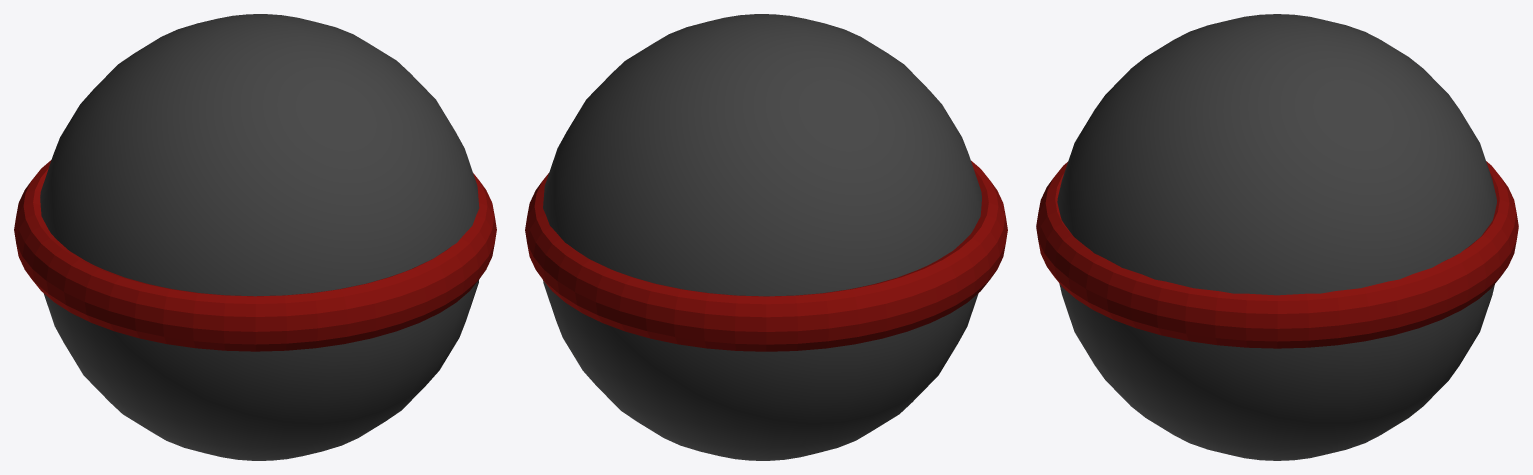
The model's file is EnemyMelee.fbx.
The picture shows the model from 3 angles, left to right: view 1: azimuth 30°, elevation 25°; view 2: azimuth 150°, elevation 25°; view 3: azimuth 270°, elevation 25°; orthographic projection.
Parts seen in each view (by area): view 1: Drone_Body, RingBody; view 2: Drone_Body, RingBody; view 3: Drone_Body, RingBody.
Boxes of the visible parts, bbox=[...] form: Drone_Body: bbox=[40, 14, 479, 460]; RingBody: bbox=[14, 160, 496, 351]; Drone_Body: bbox=[543, 14, 981, 460]; RingBody: bbox=[525, 160, 1007, 351]; Drone_Body: bbox=[1057, 14, 1496, 460]; RingBody: bbox=[1036, 161, 1518, 348].
Size of the model in its own units: 108 by 100 by 108.
